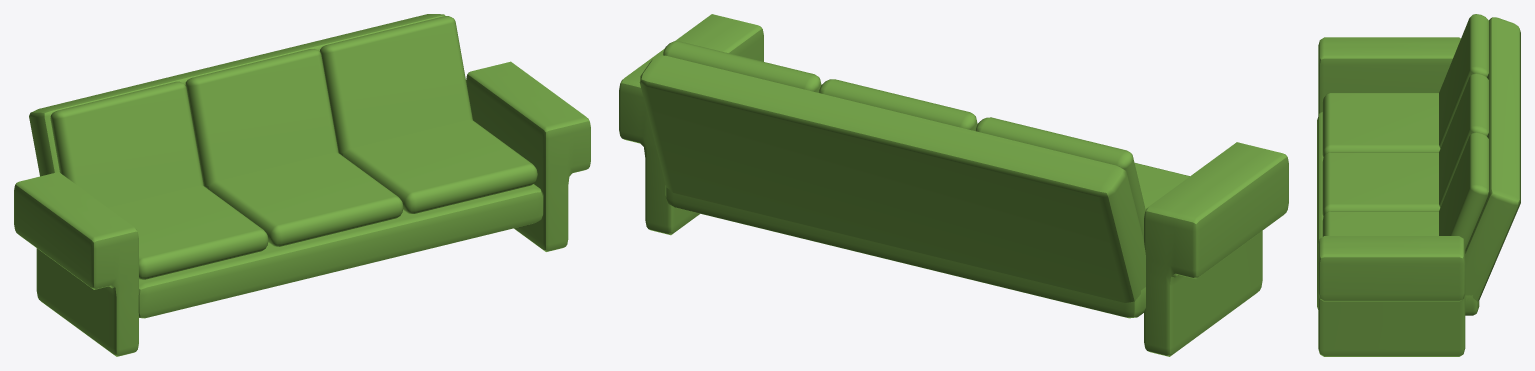
The model's file is Sofa.fbx.
3 views of the same model, side by side, from view 1: azimuth 30°, elevation 25°; view 2: azimuth 150°, elevation 25°; view 3: azimuth 270°, elevation 25° (orthographic). The views are drawn at different scales.
Visible parts, largest first — view 1: Sofa; view 2: Sofa; view 3: Sofa.
Part boxes in pixels (<box>): Sofa: <box>14,14,590,356</box>; Sofa: <box>619,14,1288,356</box>; Sofa: <box>1317,14,1520,356</box>.
Bounding box in the file's own units: 17.88 × 6.04 × 7.02.
